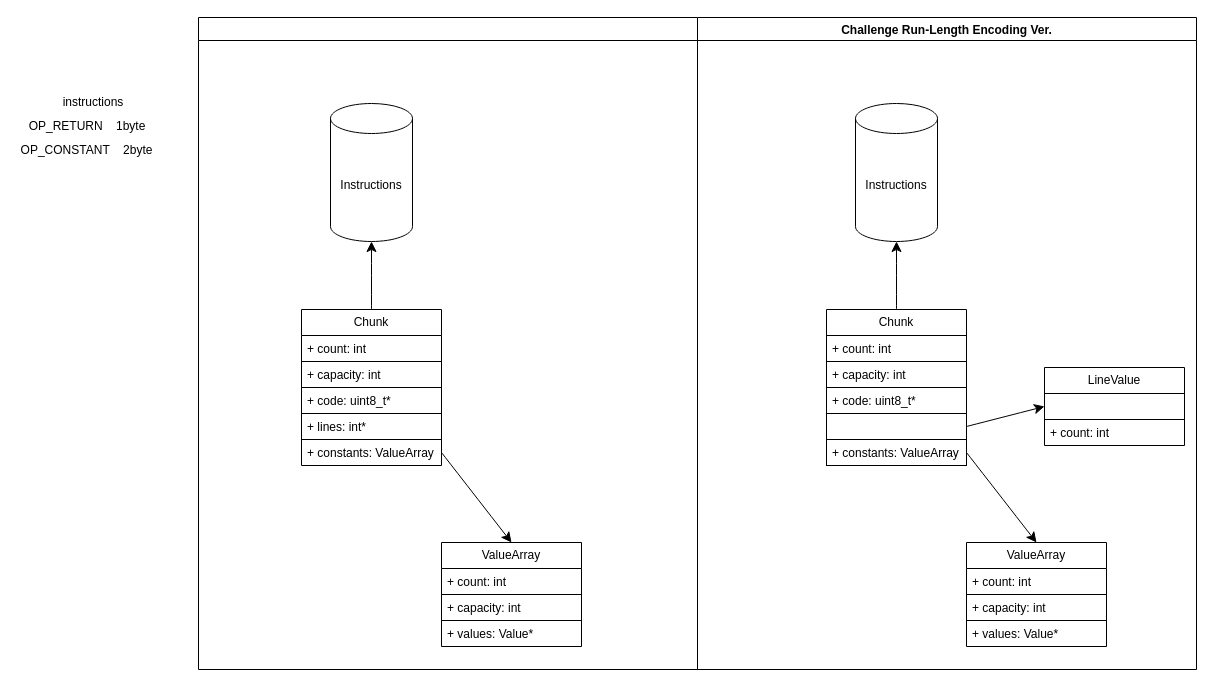
The diagram is 1214 pixels wide and 687 high, and some of its shapes have lost their labels. The shapes that lost their labels are listed below. From the top down, each one's centre as x and y in pixels, then its label:
At point (448, 343): "Original".
At point (896, 426): "+ lines: LineValue*".
At point (1114, 406): "+ value: int".
